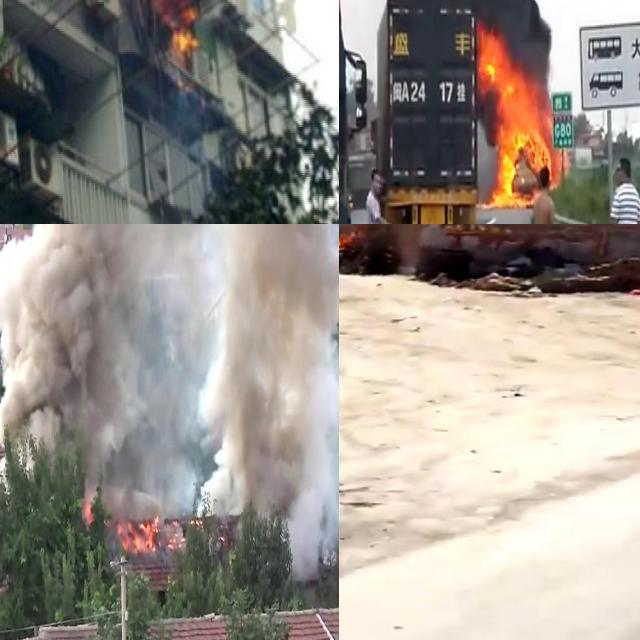fire: (479, 31, 557, 208), (101, 0, 202, 54), (114, 511, 199, 559), (339, 229, 357, 263), (81, 492, 95, 524)
smoke: (0, 224, 339, 501), (203, 224, 339, 558)
